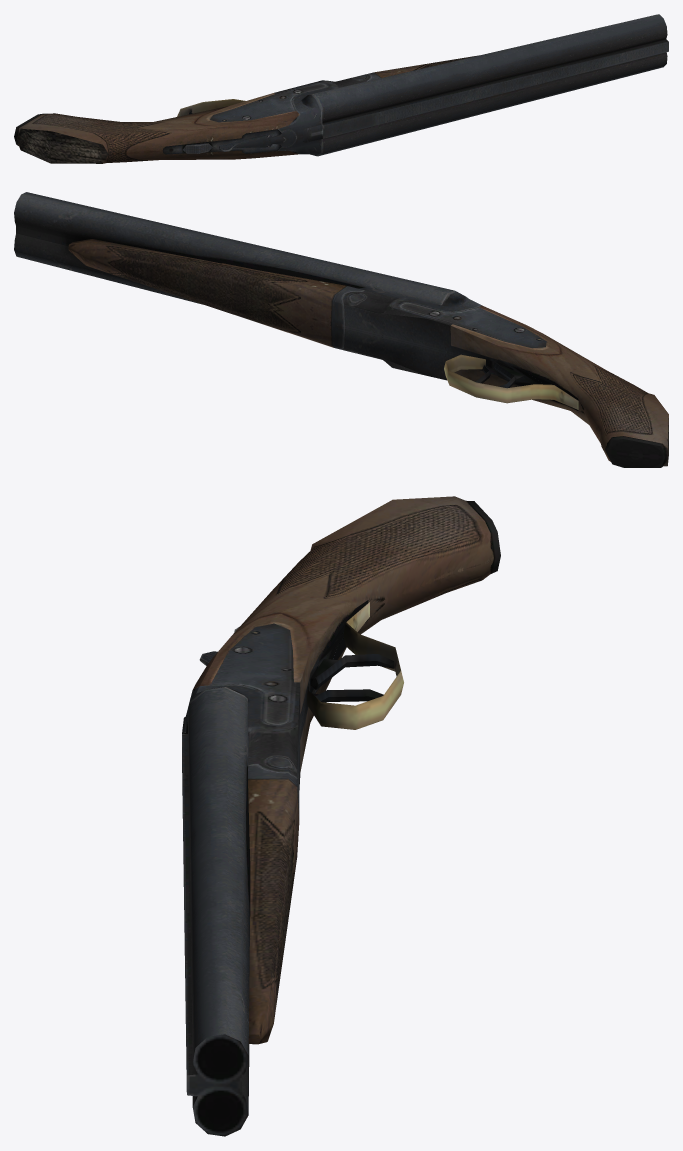
File: weapon_usa_db_shotgun_sawed_LOD11.obj
3 views of the same model, one above another, from view 1: azimuth 30°, elevation 25°; view 2: azimuth 150°, elevation 25°; view 3: azimuth 270°, elevation 25° (orthographic). The views are drawn at different scales.
Parts seen in each view (by area): view 1: TomGroup_0, TomGroup_1; view 2: TomGroup_0, TomGroup_1; view 3: TomGroup_0, TomGroup_1.
Part boxes in pixels (x1=…): TomGroup_0: x1=14, y1=14, x2=668, y2=156; TomGroup_1: x1=16, y1=55, x2=477, y2=163; TomGroup_0: x1=14, y1=192, x2=666, y2=467; TomGroup_1: x1=68, y1=239, x2=668, y2=466; TomGroup_0: x1=182, y1=500, x2=500, y2=1136; TomGroup_1: x1=193, y1=496, x2=493, y2=1044.
Size of the model in its own units: 51.65 by 5.08 by 12.23.
Materials: 1 (1 with a texture image).
